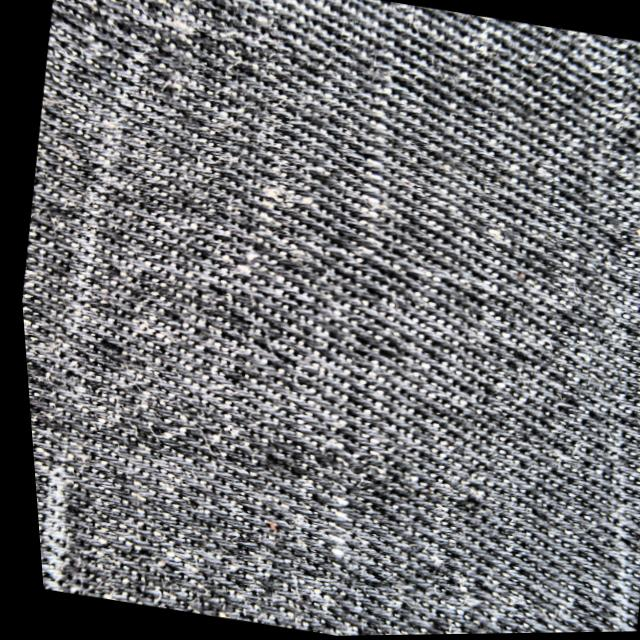Hole: (353, 92, 396, 205), (309, 492, 348, 561)
